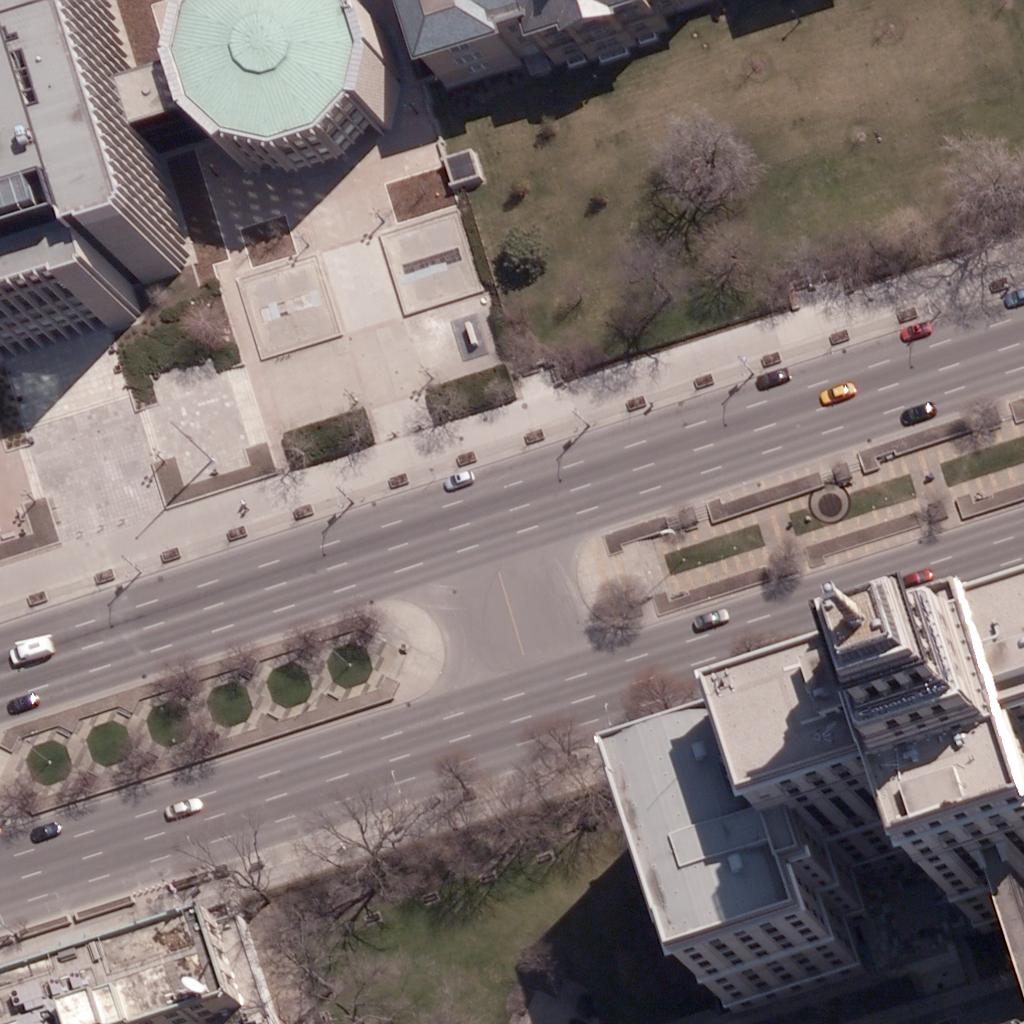car: (895, 312, 929, 346), (895, 313, 929, 347), (896, 314, 930, 348), (753, 359, 787, 393), (816, 376, 850, 410), (898, 394, 932, 428), (435, 462, 469, 496), (899, 559, 933, 593), (692, 598, 726, 632), (12, 631, 46, 665), (10, 682, 44, 716), (165, 792, 199, 826), (25, 814, 59, 848), (1004, 275, 1024, 309)
